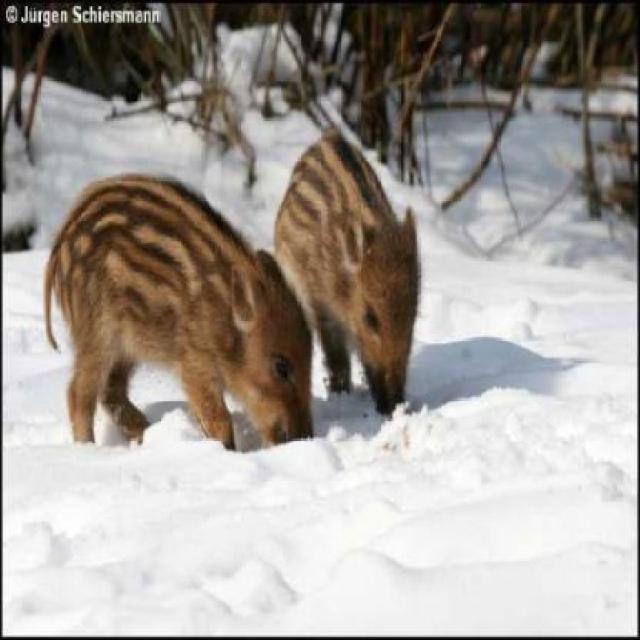WildBoar: (2, 117, 306, 506), (278, 112, 476, 428)
